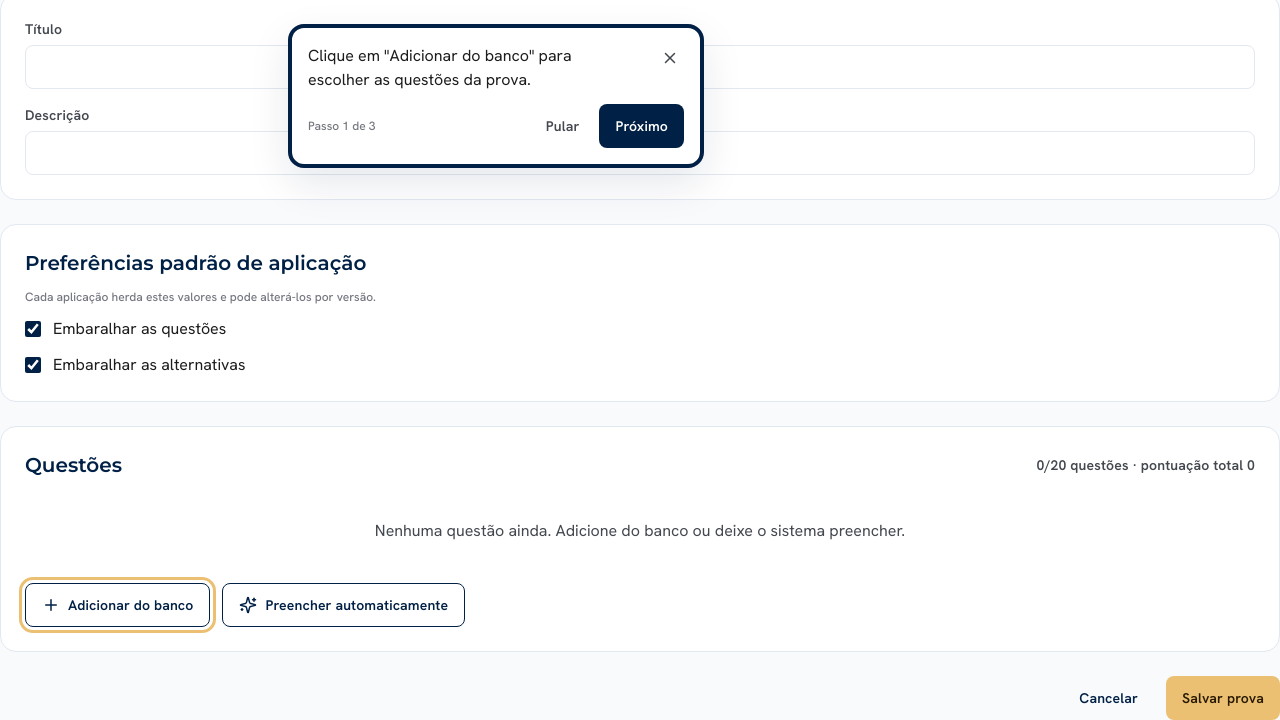
Test: ExamFormPage › recomputes the total as a score is typed
(page scrolled)
Click the button "Adicionar do banco" at x=118, y=605, box [25, 583, 210, 627]
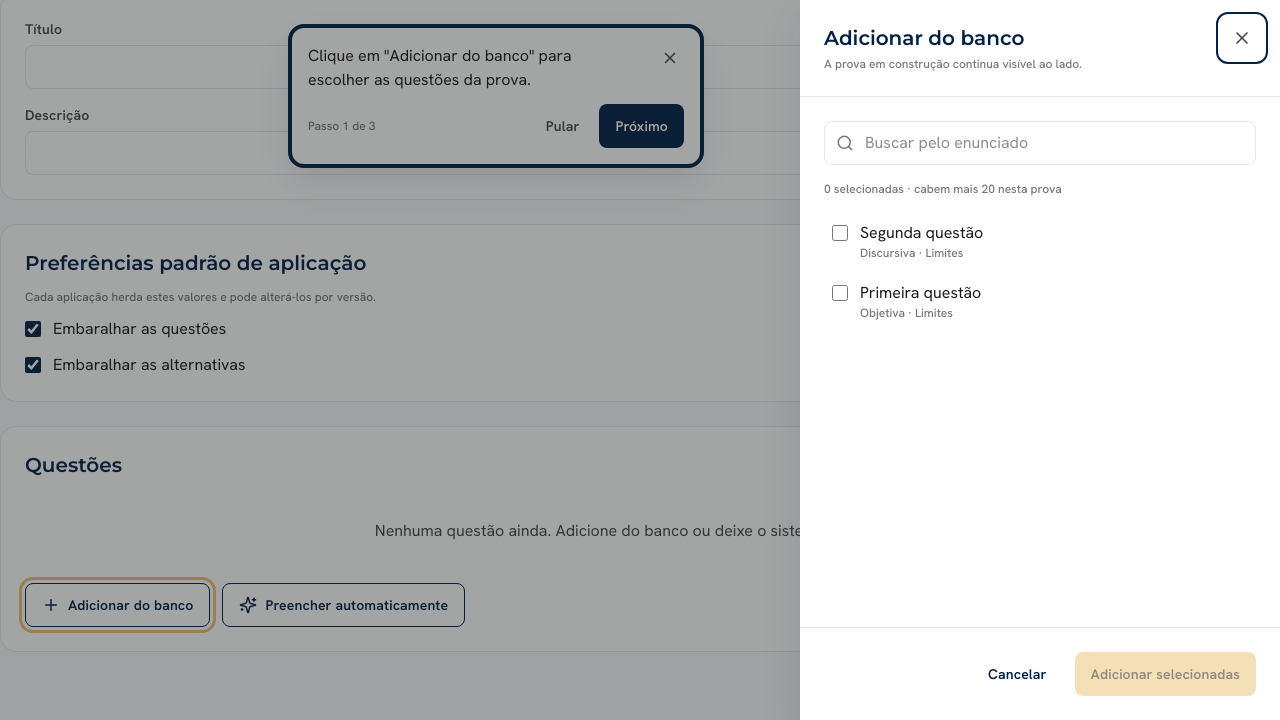
Click the checkbox labelled "Segunda questão Discursiva · Limites" at x=840, y=233, box [832, 225, 848, 241]
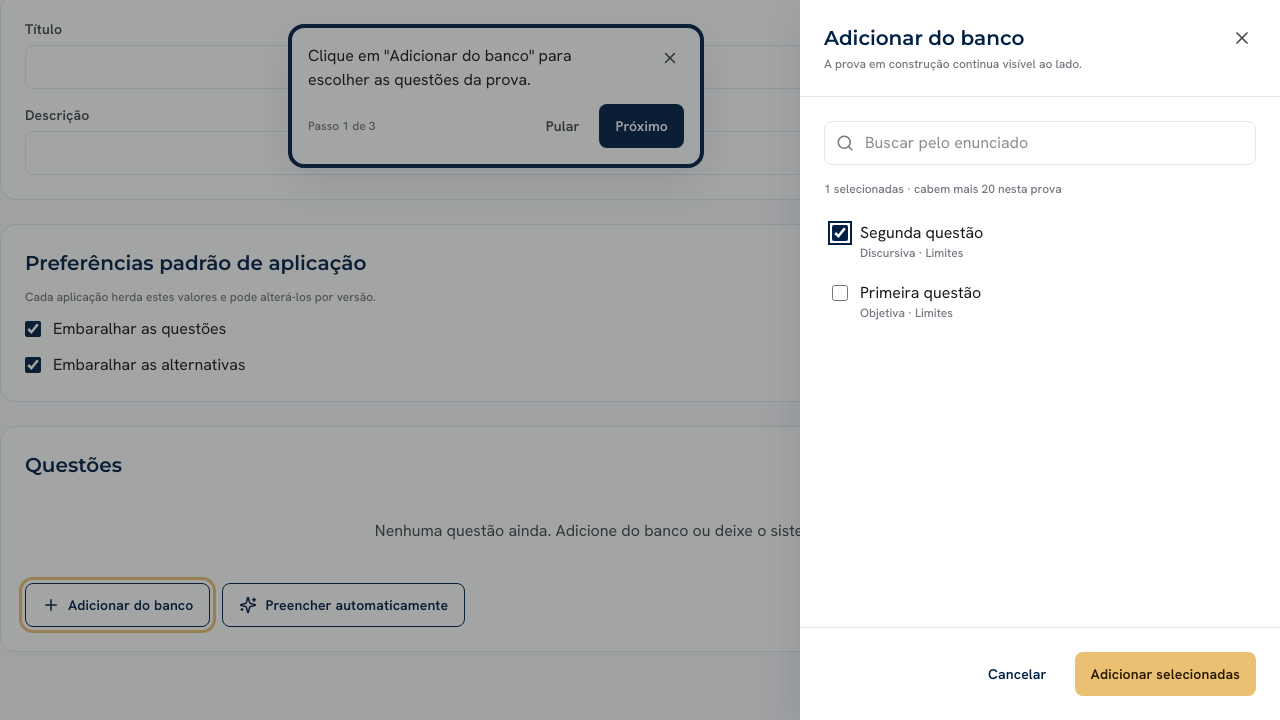
Click the button "Adicionar selecionadas" at x=1165, y=674, box [1075, 652, 1256, 696]
(page scrolled)
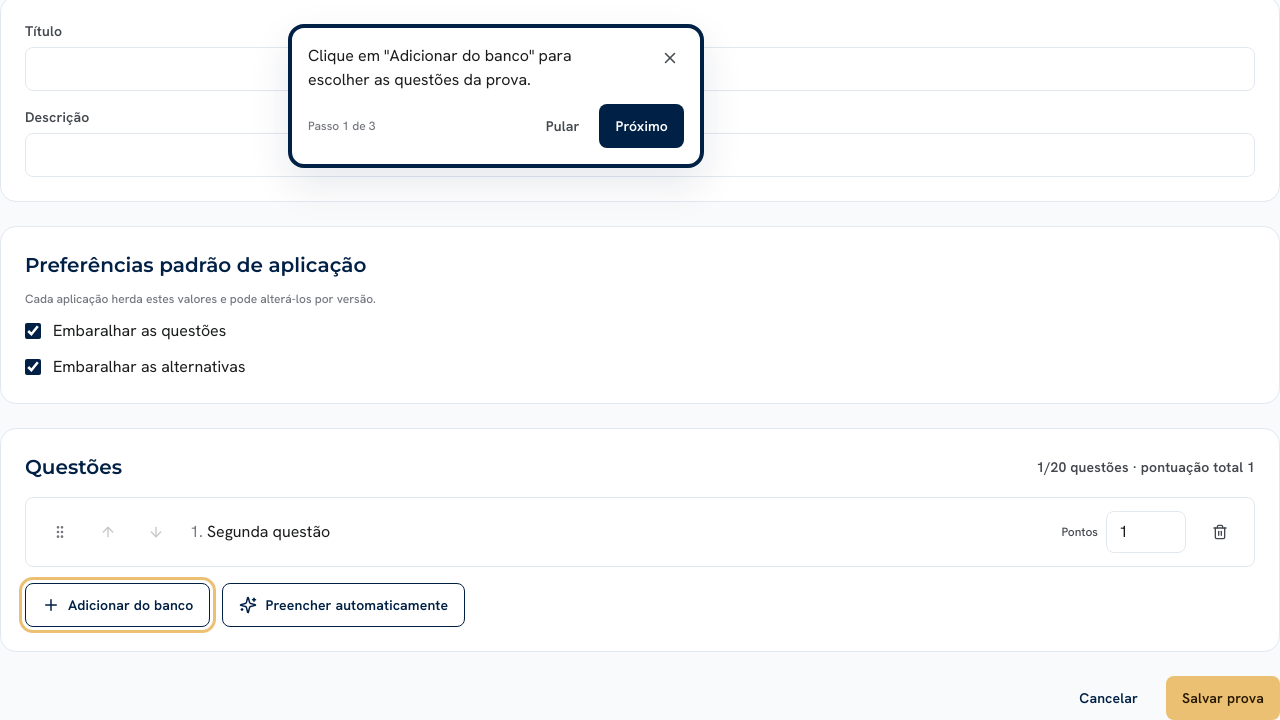
Expected: the dialog is gone
Replace the text in the number field named "Pontuação da questão 1 de 1" with "4" at x=1146, y=532, box [1106, 511, 1186, 553]
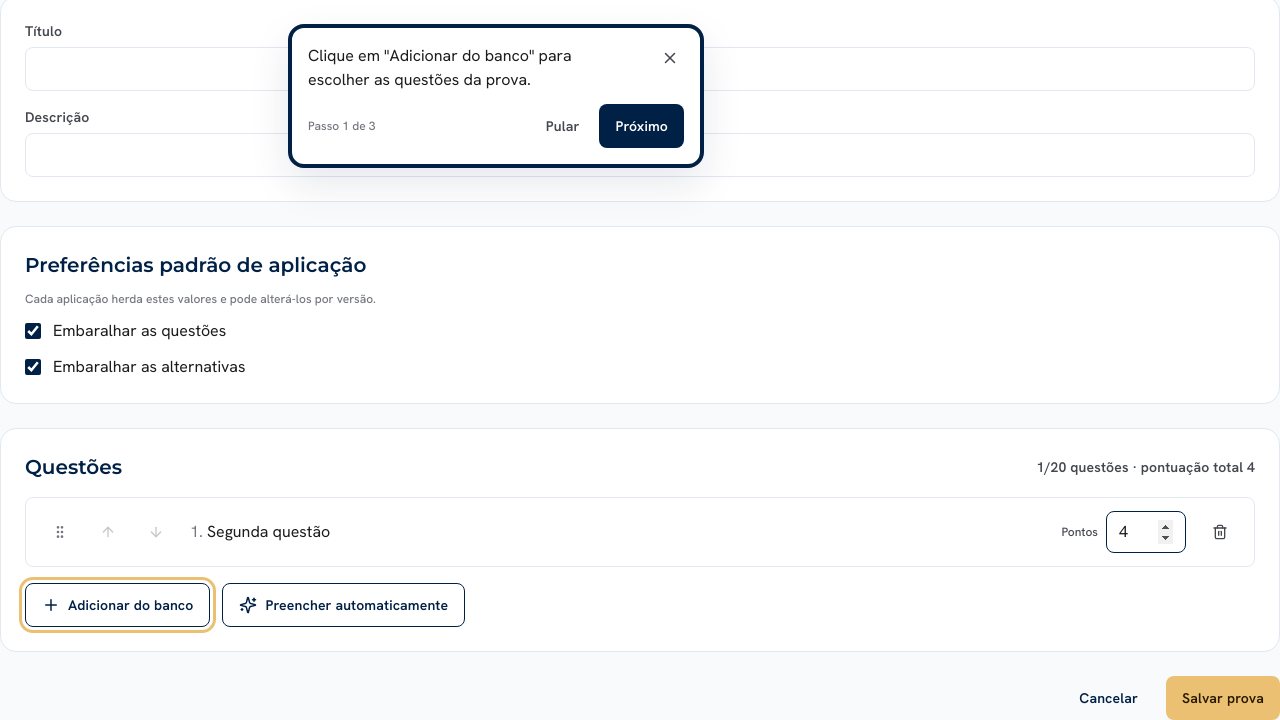
Expected: the text "1/20 questões · pontuação total 4" is shown, [1037, 457, 1255, 477]
